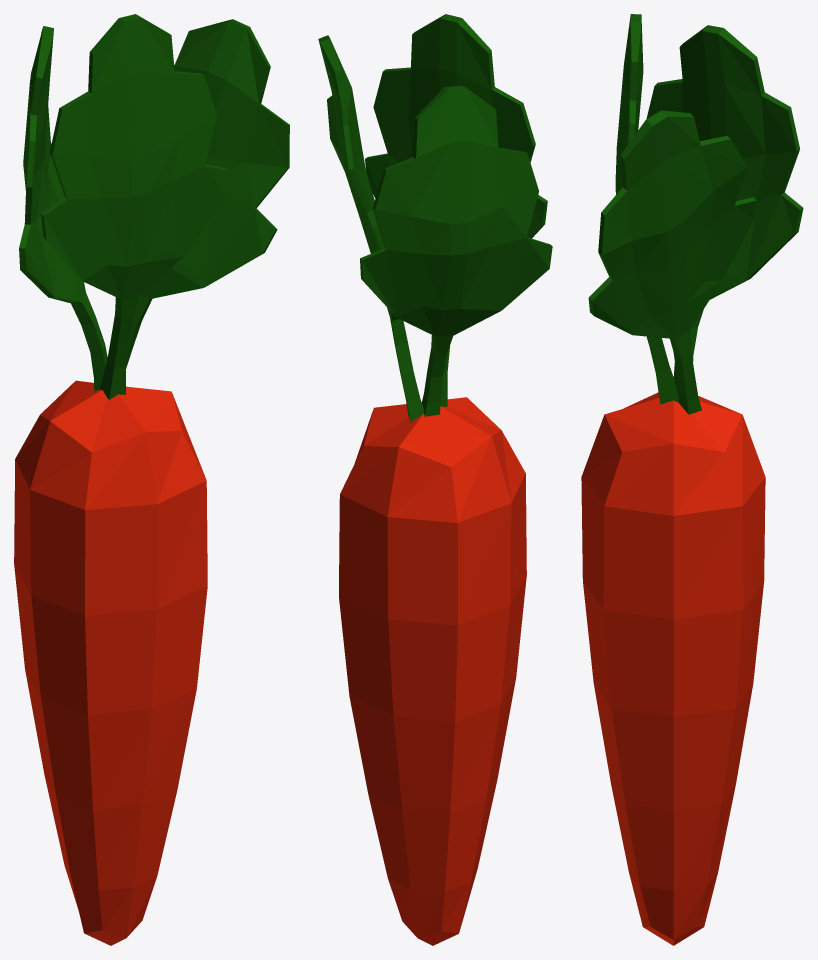
File: carrot (1).fbx
3 renders of one model, left to right at view 1: azimuth 30°, elevation 25°; view 2: azimuth 150°, elevation 25°; view 3: azimuth 270°, elevation 25°, orthographic. The views are drawn at different scales.
Bounding box in the file's own units: 1.21 × 4.33 × 0.9404.
